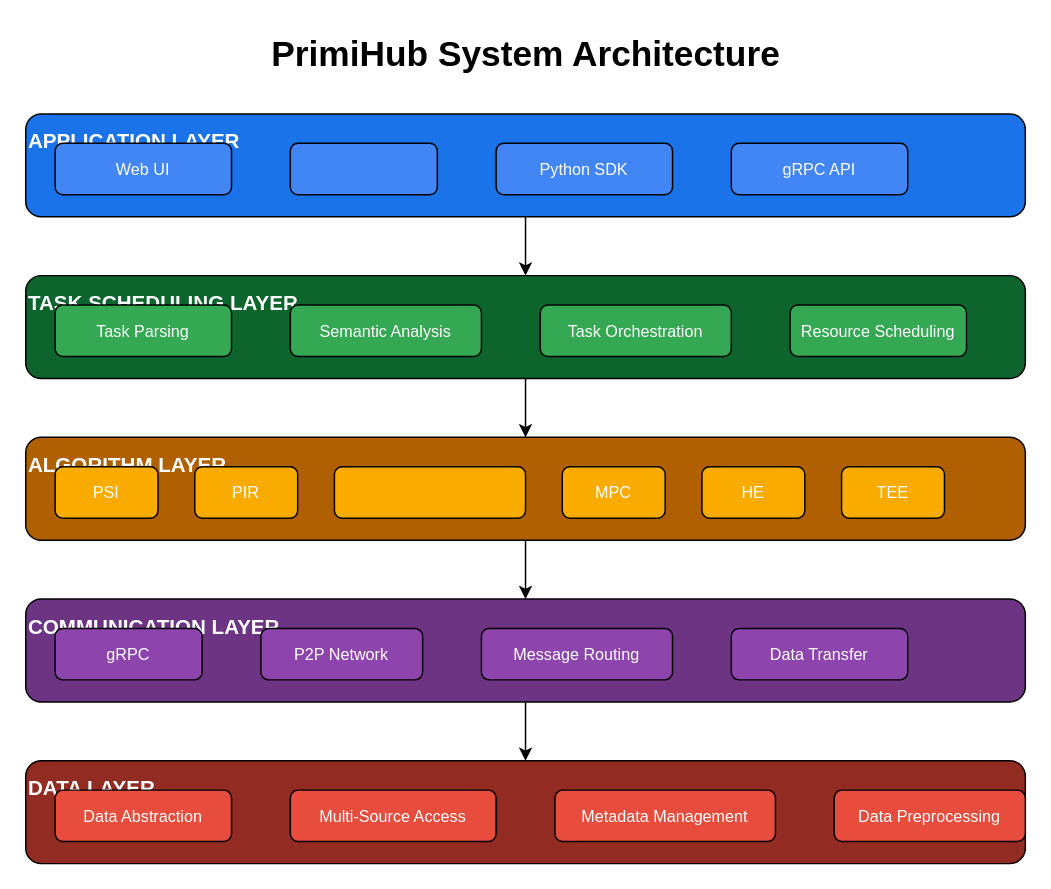
Image size: 1051x889. Some labels were removed from this diagram. Each missing label, with the centre of its shape:
"CLI" belongs at [363,168].
"Federated Learning" belongs at [429,491].
